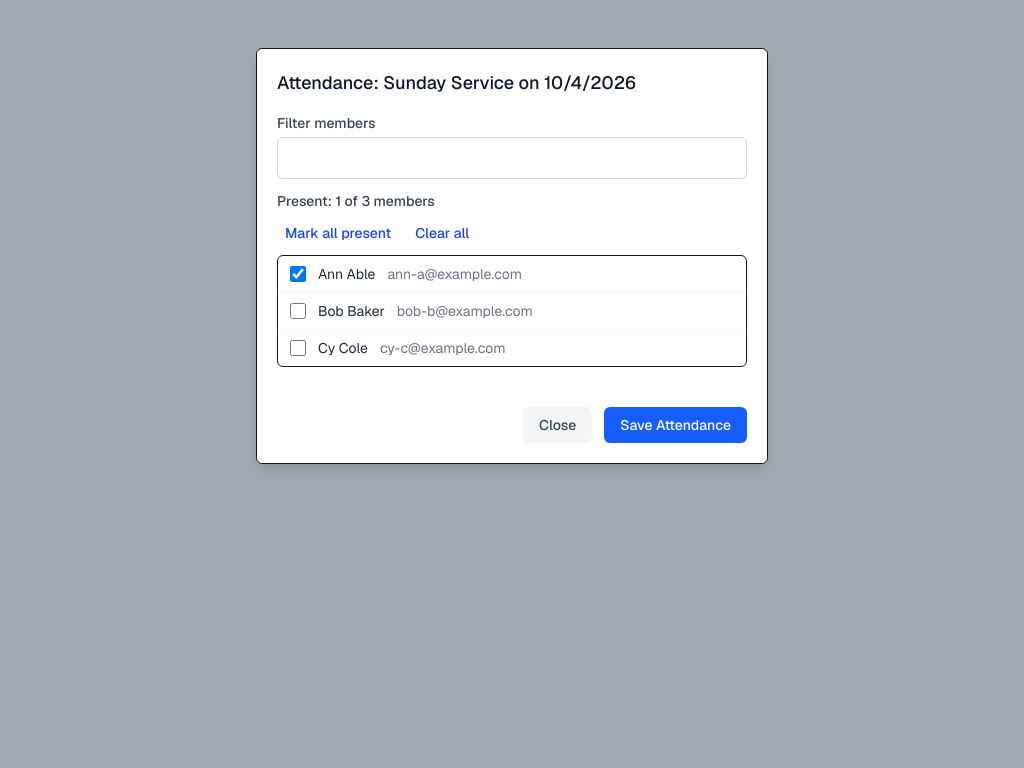
Test: AttendanceSheet › saves the sheet in bulk and announces the result
This screenshot has width=1024, height=768.
Expected: the checkbox labelled "Ann Able" is shown, [290,266,306,282]
Click the checkbox labelled "Bob Baker": x=298, y=311 [290,303,306,319]
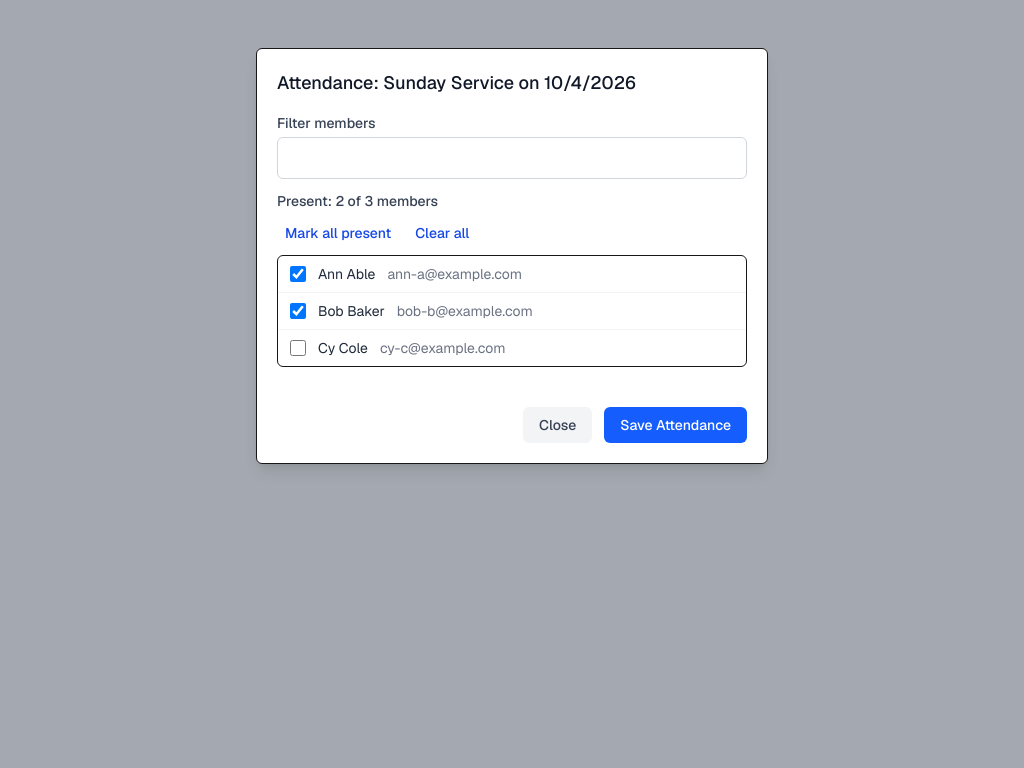
Now the element "Present: 2 of 3 members" is shown, box [277,191,747,367]
Click the button "Save Attendance": x=676, y=425 [604,407,747,443]
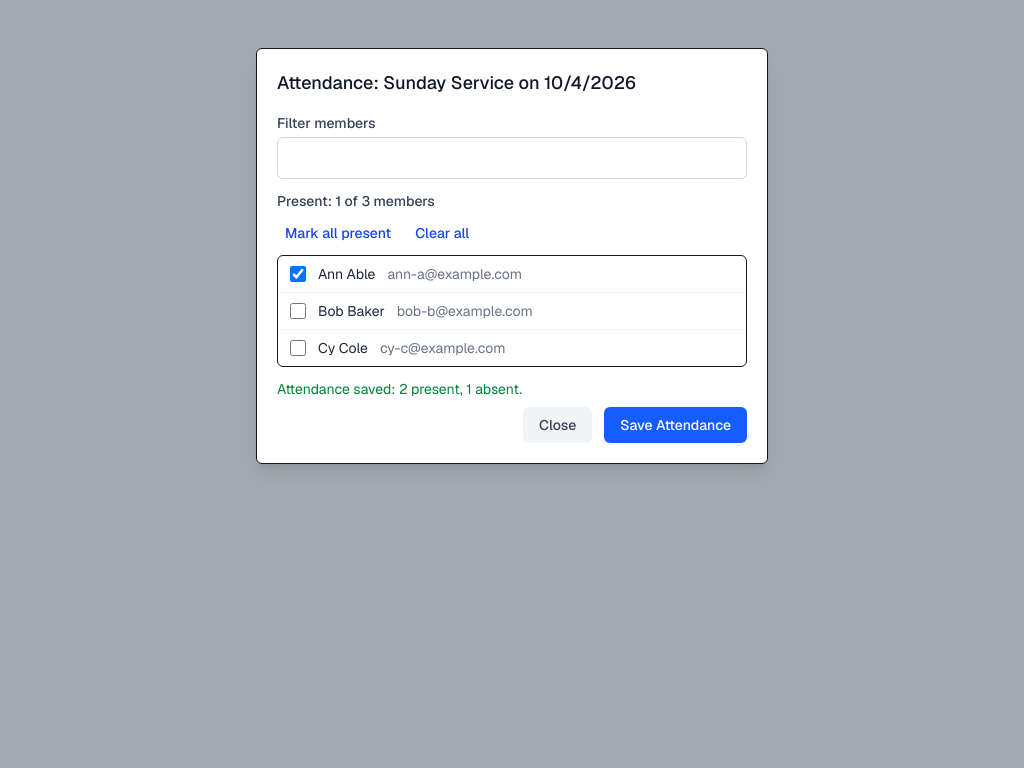
Now the message reads "Attendance saved: 2 present, 1 absent.", box [277,380,522,398]
